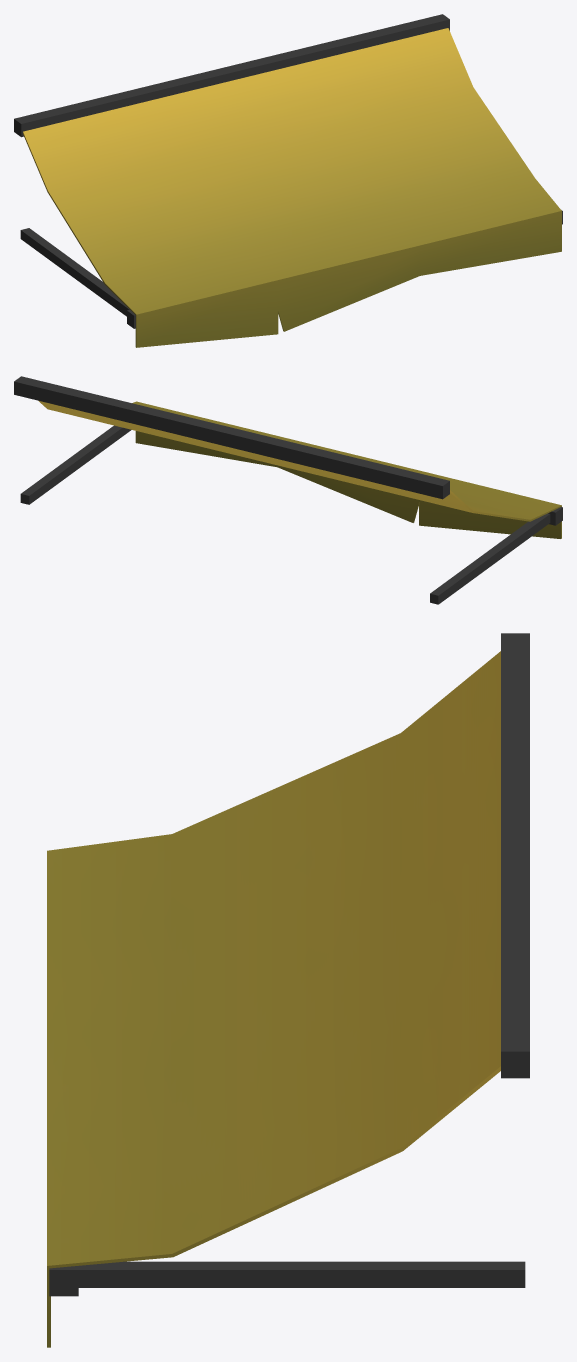
The model's file is SM_BuildingsDecor_33.fbx.
The picture shows the model from 3 angles, top to bottom: view 1: azimuth 30°, elevation 25°; view 2: azimuth 150°, elevation 25°; view 3: azimuth 270°, elevation 25°; orthographic projection. The views are drawn at different scales.
Parts seen in each view (by area): view 1: SM_BuildingsDecor_33; view 2: SM_BuildingsDecor_33; view 3: SM_BuildingsDecor_33.
Part boxes in pixels (x1,y1,x2,y2): SM_BuildingsDecor_33: [14, 14, 562, 347]; SM_BuildingsDecor_33: [14, 376, 562, 604]; SM_BuildingsDecor_33: [47, 633, 529, 1347].
Bounding box in the file's own units: 2.52 × 0.9035 × 1.22.
